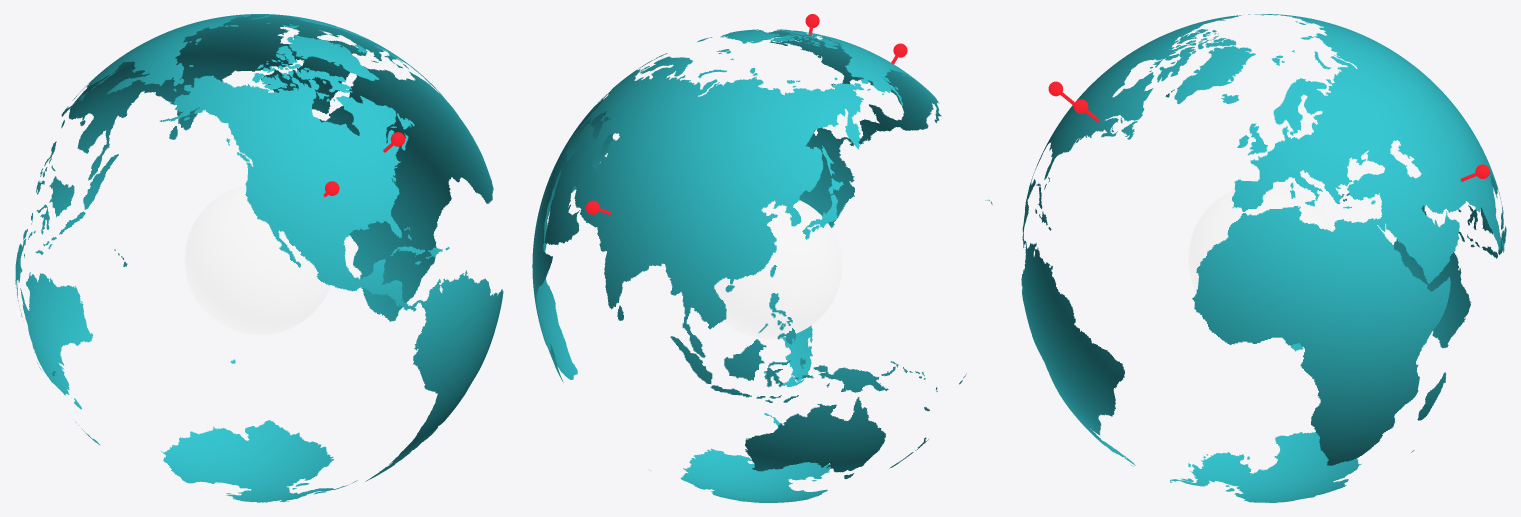
File: earth.glb
The picture shows the model from 3 angles, left to right: view 1: azimuth 30°, elevation 25°; view 2: azimuth 150°, elevation 25°; view 3: azimuth 270°, elevation 25°; orthographic projection. The views are drawn at different scales.
Parts seen in each view (by area): view 1: Continents — oceans are empty space.001, Inner Sun.001; view 2: Continents — oceans are empty space.001, Inner Sun.001; view 3: Continents — oceans are empty space.001, Inner Sun.001.
Boxes of the visible parts, box(x1,y1,x2,y2) form: Continents — oceans are empty space.001: box(15, 14, 503, 502); Inner Sun.001: box(184, 185, 330, 334); Continents — oceans are empty space.001: box(532, 29, 992, 502); Inner Sun.001: box(714, 200, 841, 338); Continents — oceans are empty space.001: box(1021, 14, 1506, 502); Inner Sun.001: box(1188, 184, 1332, 292).
Size of the model in its own units: 5.87 by 5.98 by 5.94.
